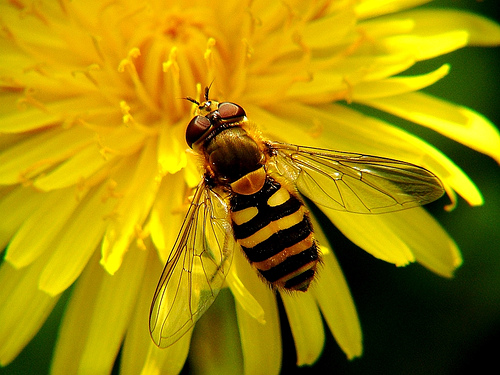dandelion: (3, 2, 500, 372)
